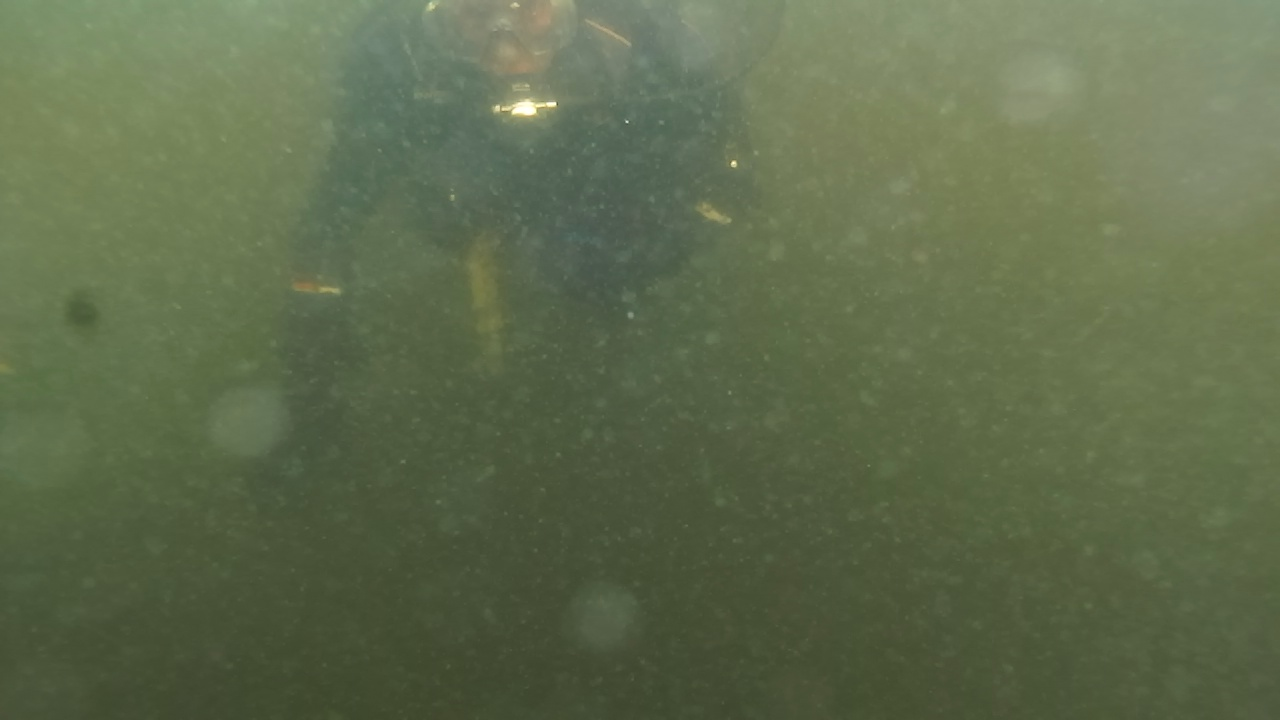Diver: (246, 0, 782, 508)
Hand: (256, 294, 382, 466)
Head: (394, 8, 610, 126)
